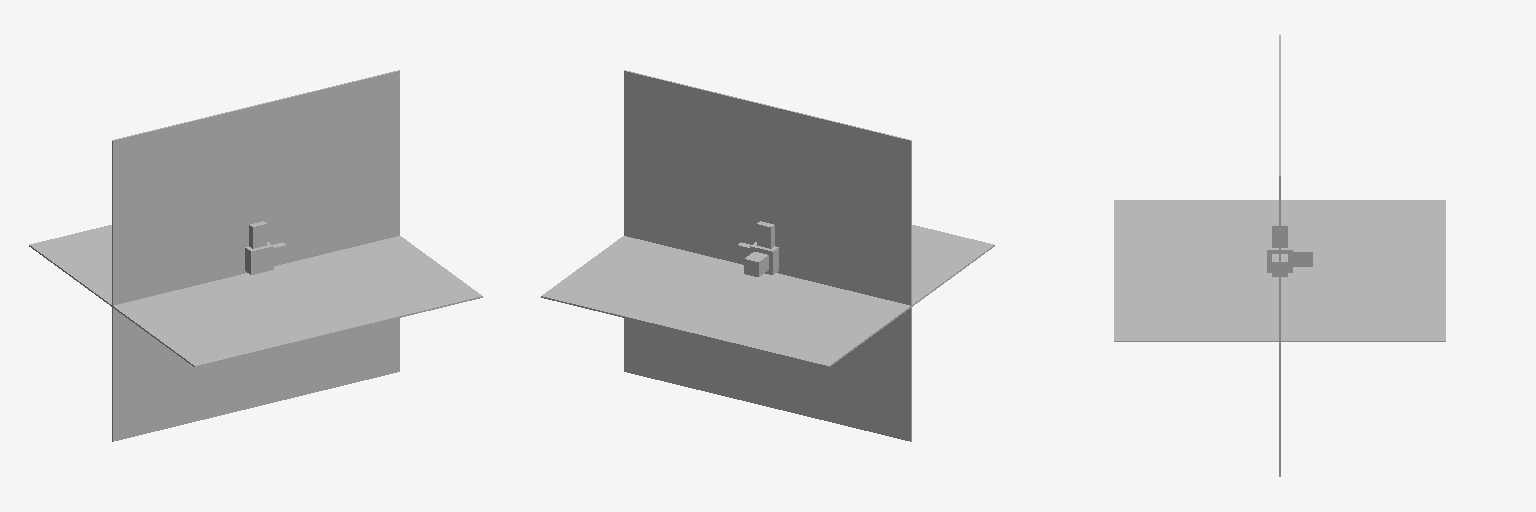
3 views of the same model, side by side, from view 1: azimuth 30°, elevation 25°; view 2: azimuth 150°, elevation 25°; view 3: azimuth 270°, elevation 25° (orthographic).
Parts seen in each view (by area): view 1: Wall, Floor, Cube, BigL; view 2: Wall, Floor, BigL; view 3: Floor, BigL, Wall.
Boxes of the visible parts, box(x1,y1,x2,y2) form: Wall: box(112, 70, 399, 441); Floor: box(29, 225, 482, 367); Cube: box(245, 242, 273, 274); BigL: box(249, 221, 286, 262); Wall: box(624, 70, 911, 441); Floor: box(541, 225, 994, 367); BigL: box(737, 221, 774, 276); Floor: box(1114, 200, 1445, 341); BigL: box(1272, 219, 1312, 276); Wall: box(1279, 35, 1280, 476).
Bounding box in the file's own units: 39.79 × 39.79 × 39.79.